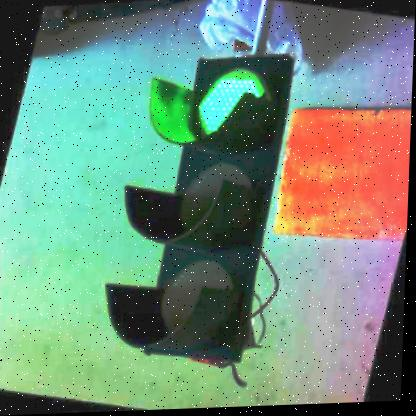Traffic Light -Green-: (87, 35, 317, 374)
